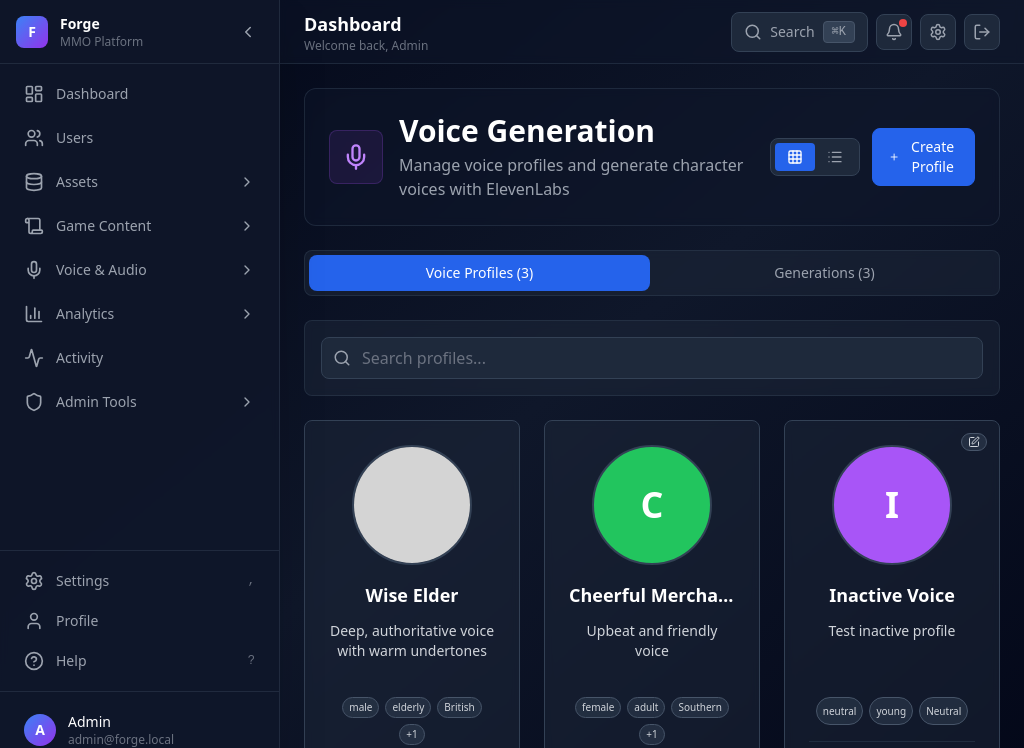
Test: VoicePage - Integration Tests › Search and Filtering › filters generations by search query
Expected: the heading "Wise Elder" is shown, 366,583 -> 458,607
Click the button "Generations (3)" at x=824, y=273, box 654,255 -> 995,291
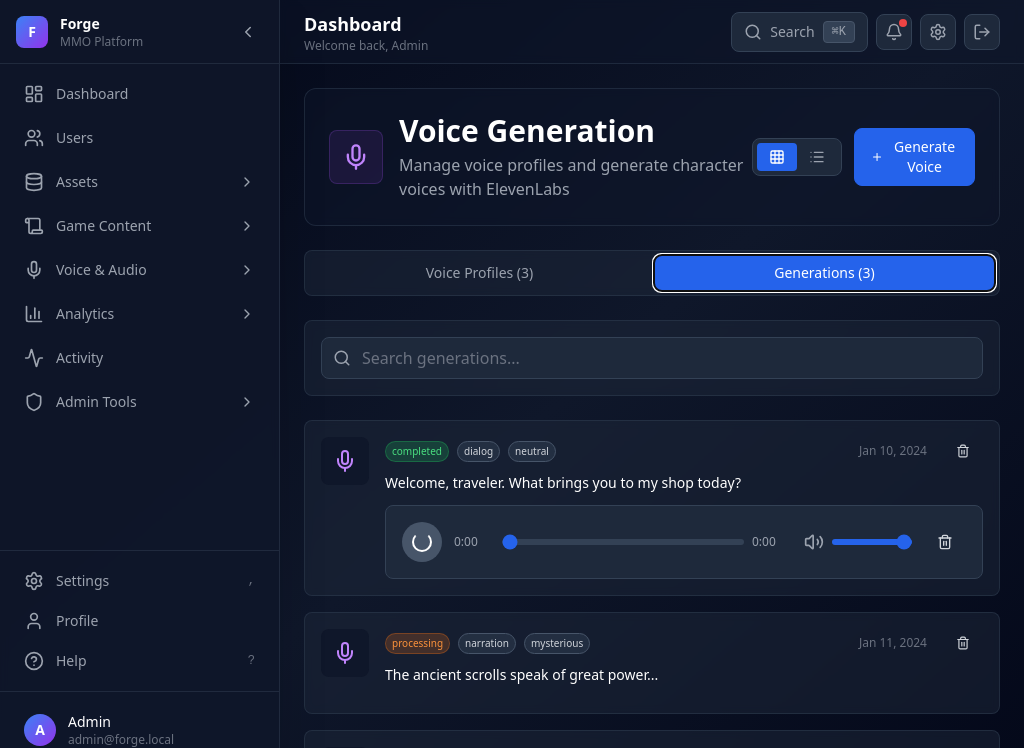
Expected: the text "Welcome, traveler. What brings you to my shop today?" is shown, 385,473 -> 741,492
Type "ancient scrolls" into the field with placeholder "Search generations..." at x=652, y=358, box 321,337 -> 983,379
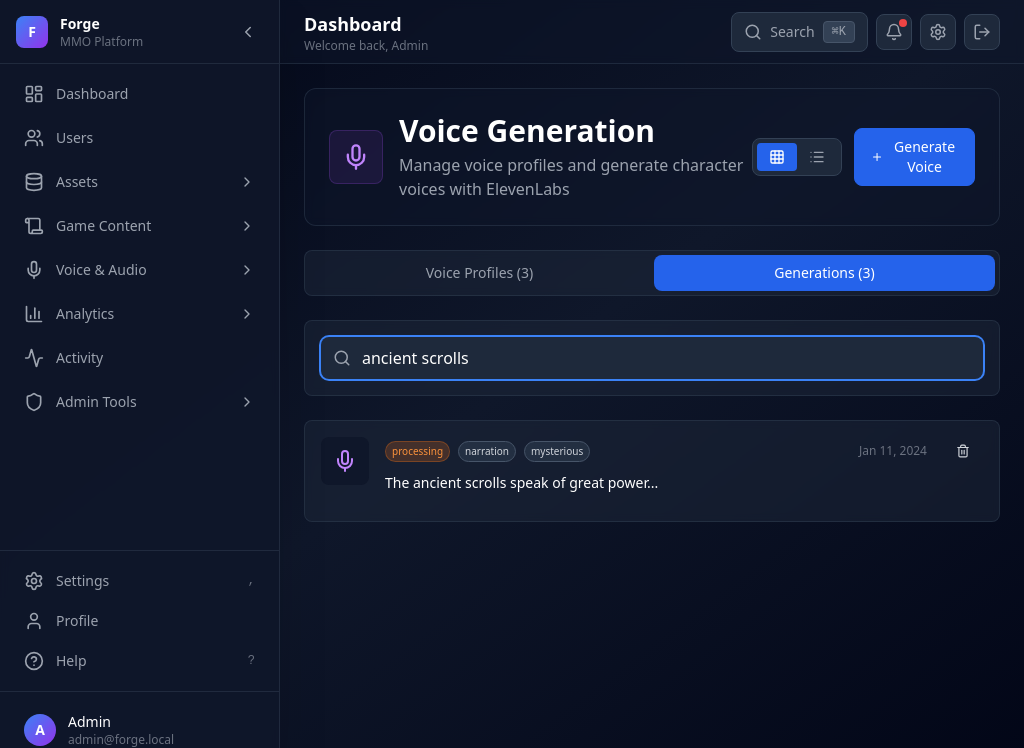
Expected: the text "The ancient scrolls speak of great power..." is shown, 385,473 -> 658,492
Expected: the text "Welcome, traveler" is gone
